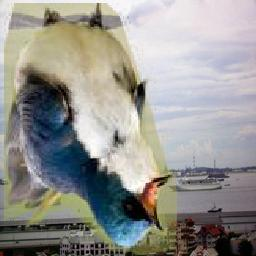Swallow: (5, 3, 178, 255)
